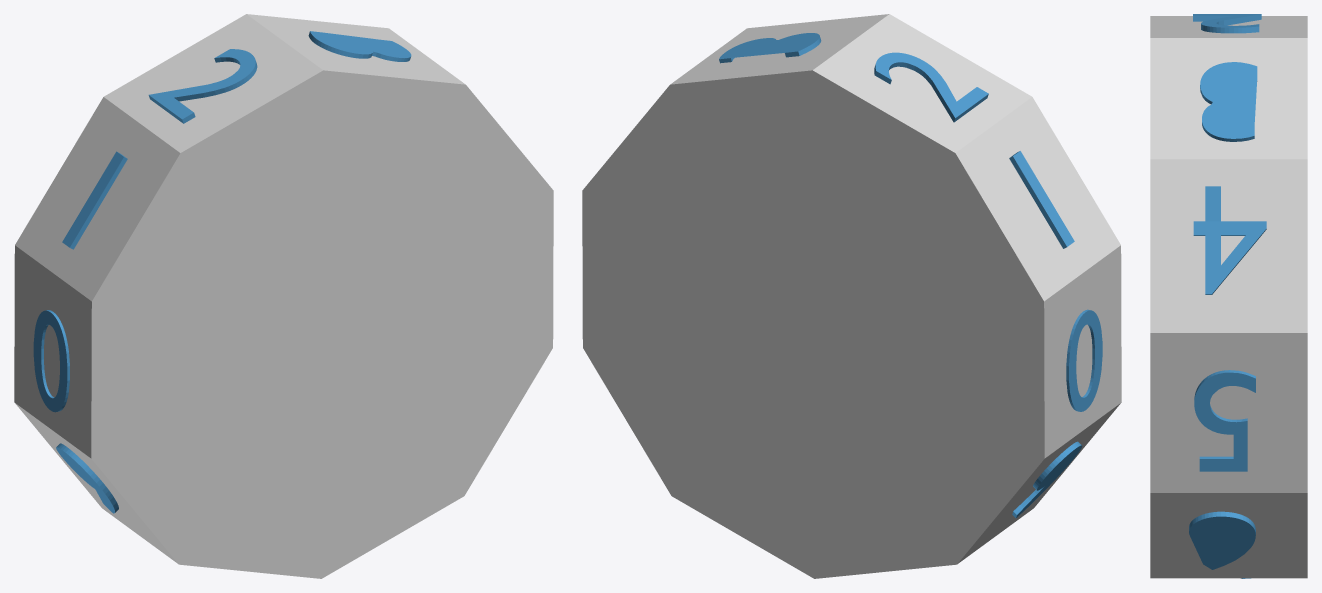
Rendered from 3 code Lock .fbx.
The picture shows the model from 3 angles, left to right: view 1: azimuth 30°, elevation 25°; view 2: azimuth 150°, elevation 25°; view 3: azimuth 270°, elevation 25°; orthographic projection. The views are drawn at different scales.
Visible parts, largest first — view 1: Circle, Text.004, Text.009, Text.003, Text, Text.008; view 2: Circle, Text.004, Text.009, Text.003, Text, Text.008; view 3: Circle, Text.003, Text.002, Text.001, Text.005, Text.004.
Part boxes in pixels (x1,y1,x2,y2): Circle: [14, 14, 553, 578]; Text.004: [148, 49, 257, 123]; Text.009: [33, 310, 69, 412]; Text.003: [308, 31, 411, 61]; Text: [62, 151, 127, 249]; Text.008: [56, 443, 118, 513]; Circle: [582, 14, 1121, 578]; Text.004: [874, 52, 988, 122]; Text.009: [1066, 309, 1102, 411]; Text.003: [719, 33, 821, 63]; Text: [1009, 151, 1074, 248]; Text.008: [1012, 441, 1082, 517]; Circle: [1150, 16, 1307, 578]; Text.003: [1200, 62, 1257, 141]; Text.002: [1194, 370, 1255, 471]; Text.001: [1193, 186, 1266, 294]; Text.005: [1189, 511, 1255, 569]; Text.004: [1193, 14, 1261, 33].
Bounding box in the file's own units: 193 × 200 × 54.92.
